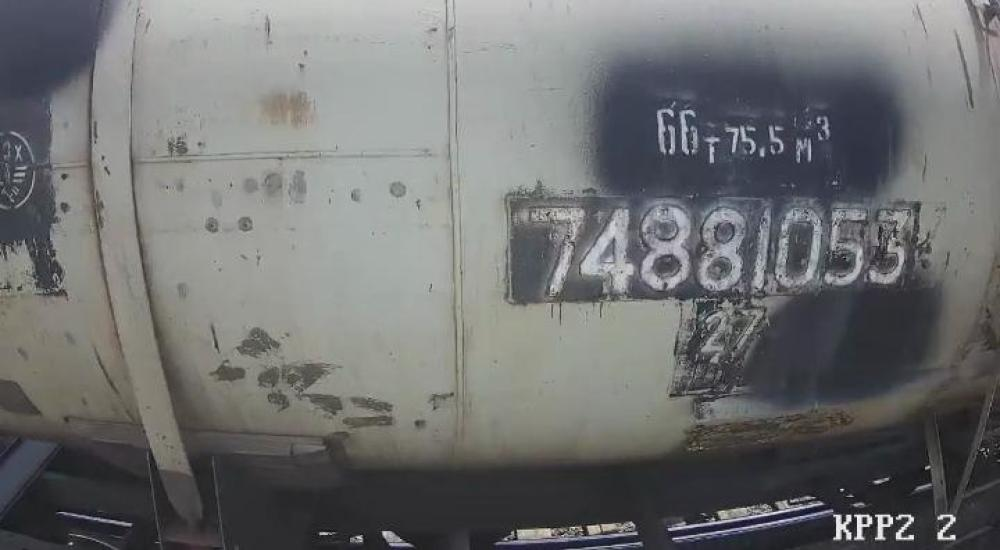Wagon-number: (512, 200, 913, 289)
